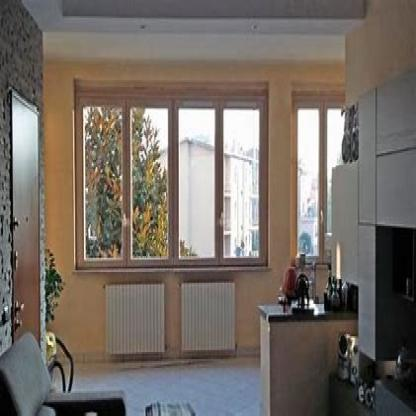Window: (73, 76, 268, 267)
